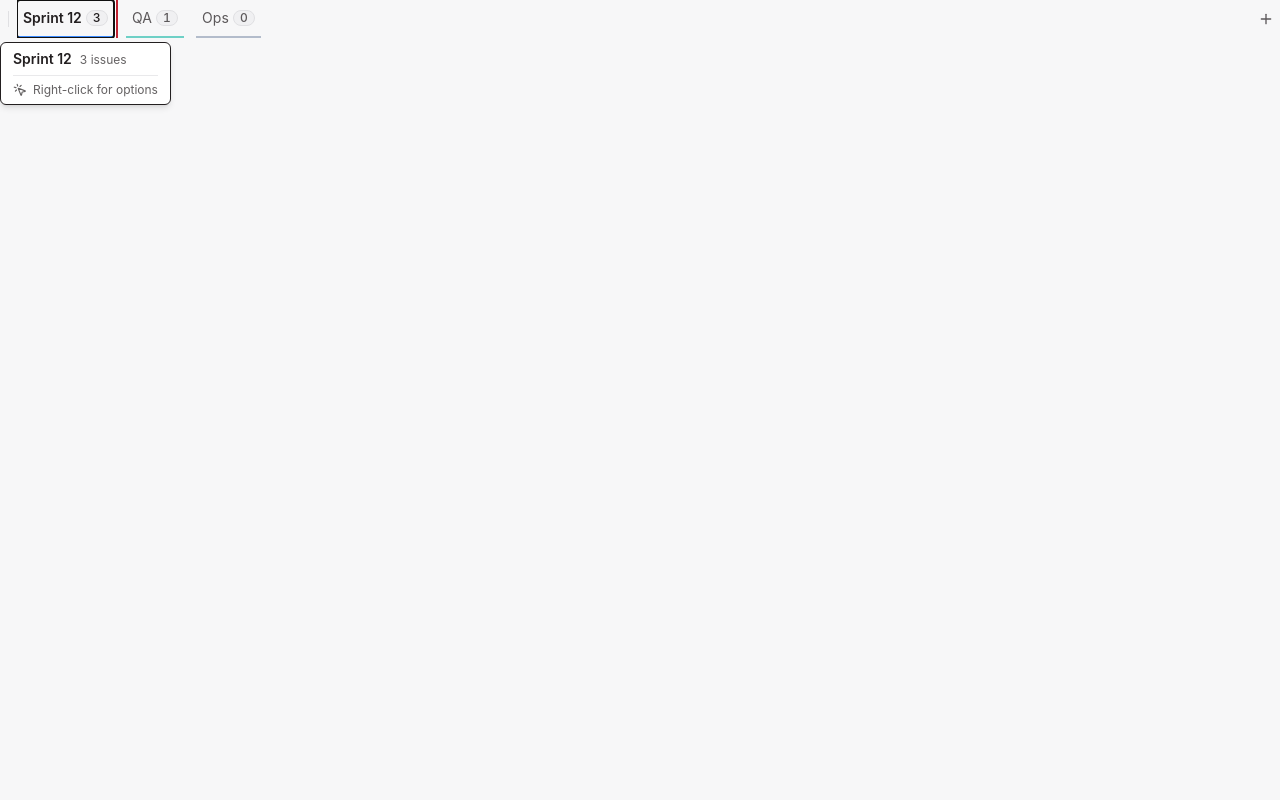
group UI axe (D-01 key states) › 5. delete alertdialog
Type keys "{Shift>}{F10}{/Shift}"
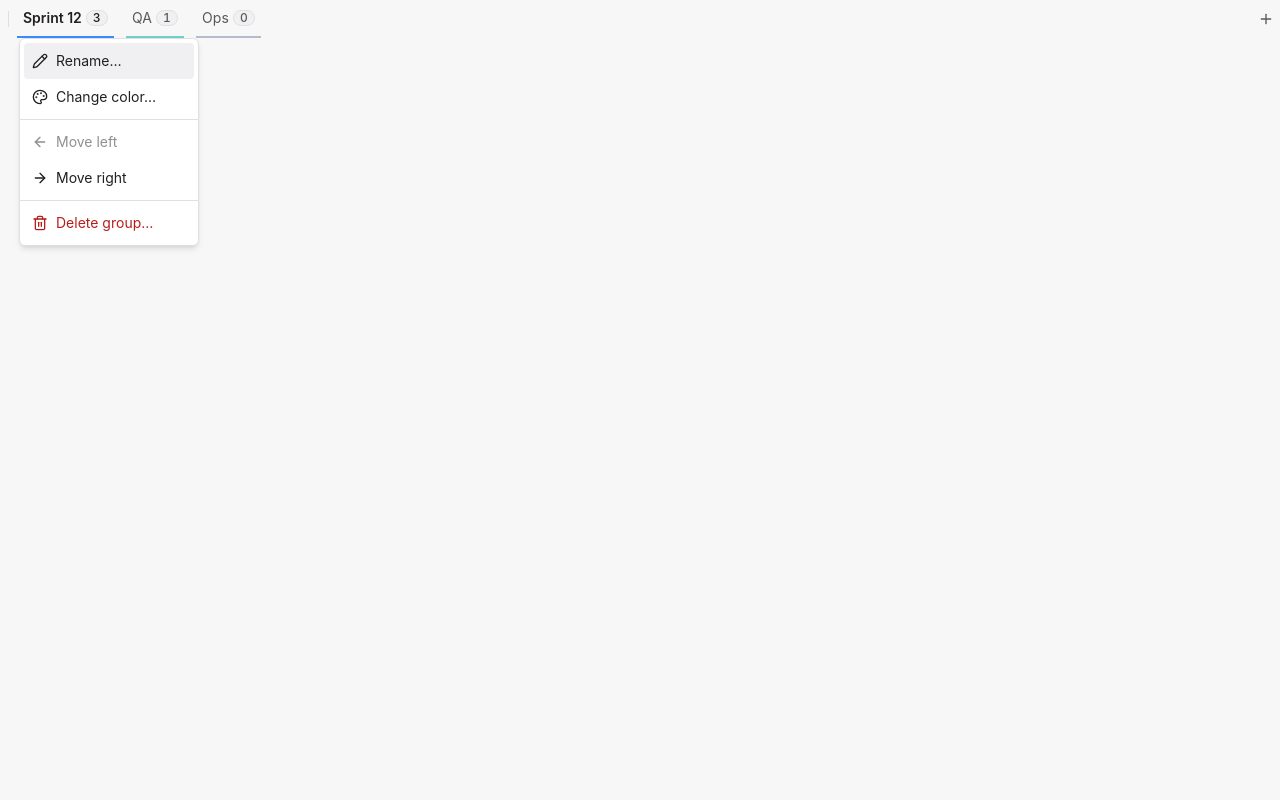
Click the menu item "Delete group…" at (93, 222), box [32,214,153,231]
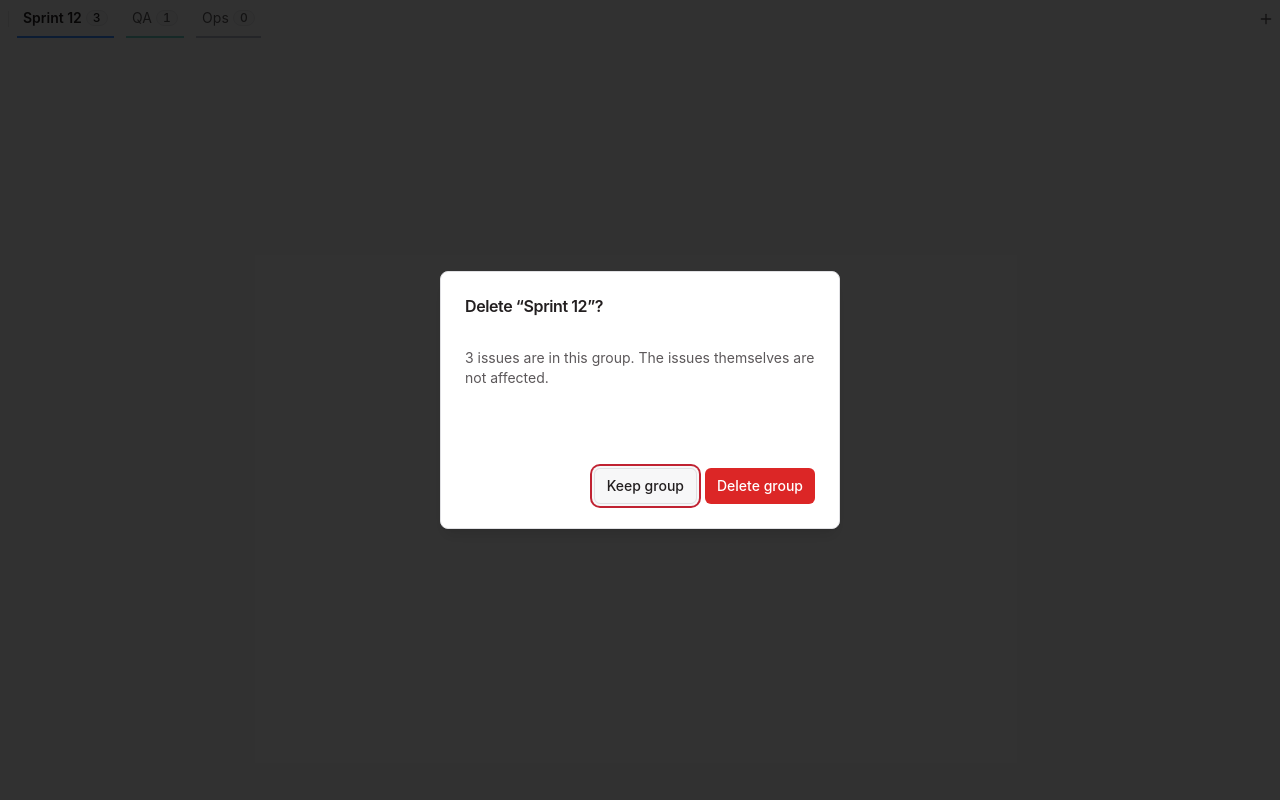
Result: the dialog is shown at [440,271,840,529]
